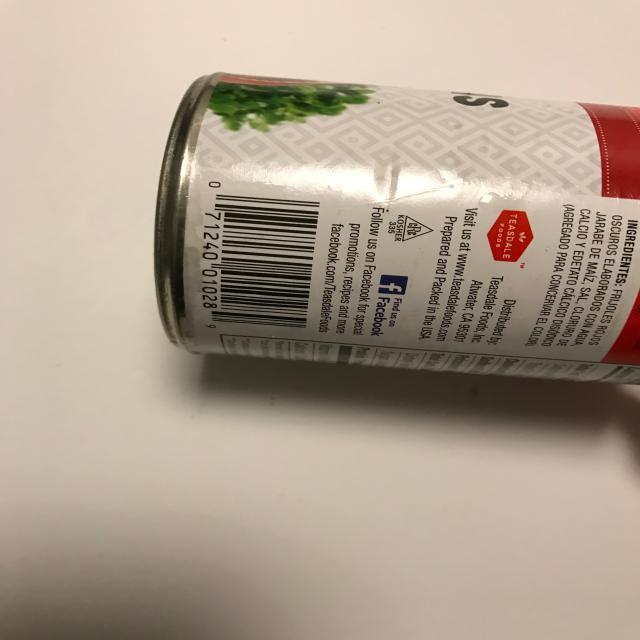metal: (153, 71, 640, 386)
